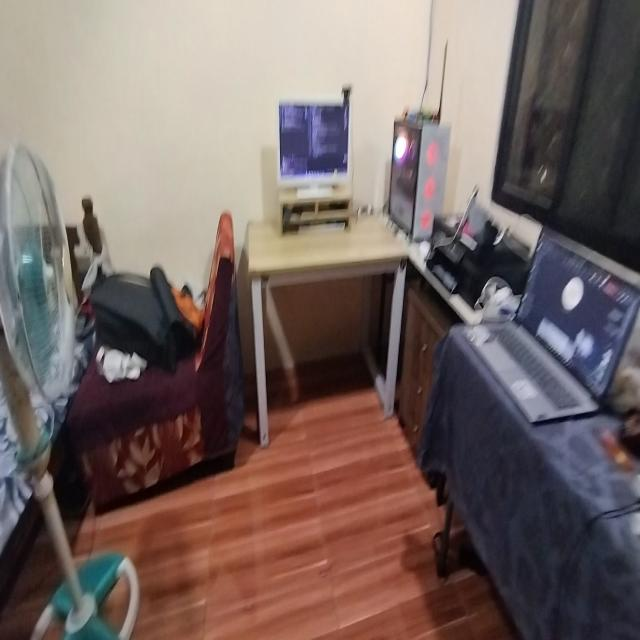table: (244, 206, 410, 437)
